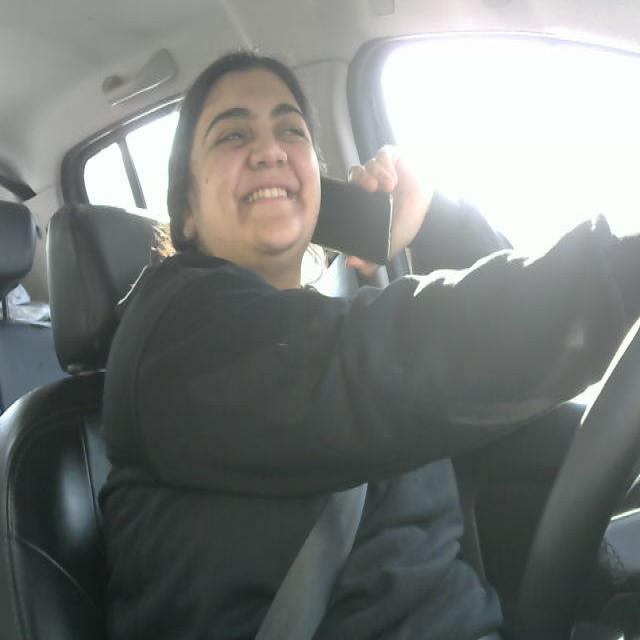mobile use: (310, 165, 412, 287)
